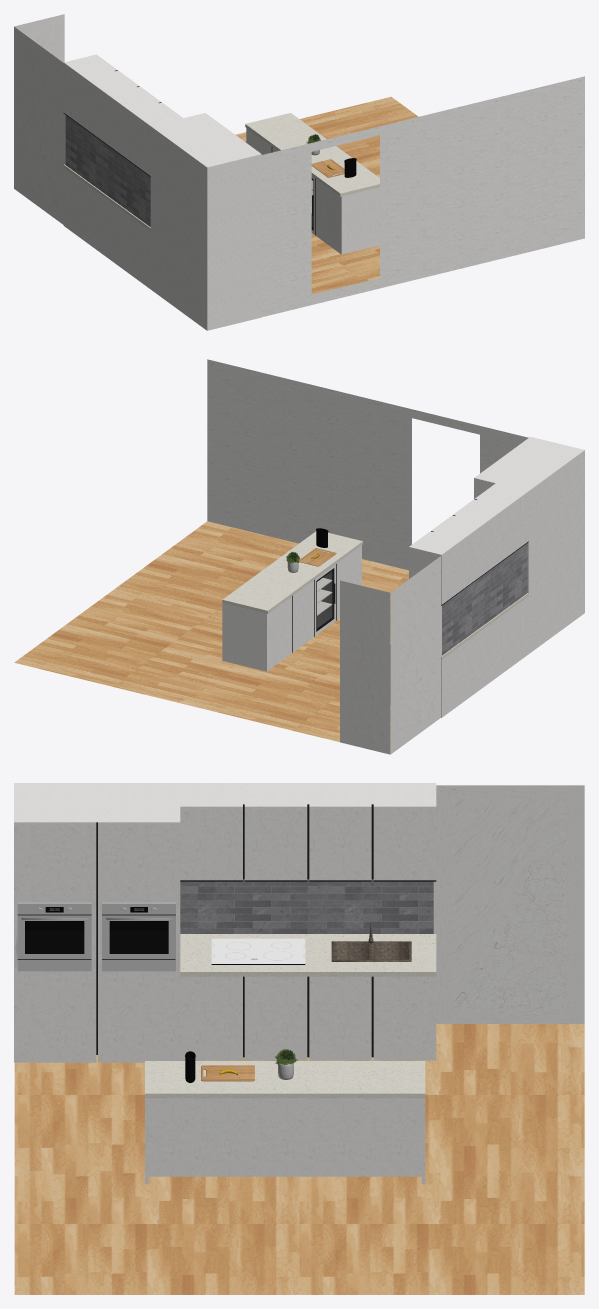
Rendered from ModifiedKitchen_v8.obj.
3 views of the same model, one above another, from view 1: azimuth 30°, elevation 25°; view 2: azimuth 150°, elevation 25°; view 3: azimuth 270°, elevation 25° (orthographic). The views are drawn at different scales.
Parts seen in each view (by area): view 1: WindowWall_Wall, Cupboards_Cupboard, WindowWall.002_Wall, Floor_Floor, Tiles_Tiles, Counters_Counter, WindowWall.001_Wall; view 2: Floor_Floor, WindowWall_Wall, Cupboards_Cupboard, WindowWall.002_Wall, WindowWall.001_Wall, Counters_Counter, Tiles_Tiles, Fridge_FridgeGlass, Trim_CupboardTrim; view 3: Floor_Floor, Cupboards_Cupboard, WindowWall.002_Wall, Counters_Counter, Tiles_Tiles, Ovens_Oven, Ovens_Hob, Hob_Material.001, Trim_CupboardTrim, Sink_Sink, Chopping_Board_Material.005.
Part boxes in pixels (left/top/right/bottom): WindowWall_Wall: left=261, top=76, right=584, bottom=316; Cupboards_Cupboard: left=63, top=54, right=379, bottom=330; WindowWall.002_Wall: left=14, top=27, right=65, bottom=224; Floor_Floor: left=235, top=96, right=418, bottom=294; Tiles_Tiles: left=65, top=115, right=150, bottom=226; Counters_Counter: left=63, top=113, right=379, bottom=230; WindowWall.001_Wall: left=14, top=14, right=64, bottom=62; Floor_Floor: left=14, top=521, right=408, bottom=754; WindowWall_Wall: left=207, top=359, right=528, bottom=570; Cupboards_Cupboard: left=222, top=436, right=584, bottom=717; WindowWall.002_Wall: left=390, top=556, right=441, bottom=754; WindowWall.001_Wall: left=340, top=580, right=390, bottom=754; Counters_Counter: left=222, top=531, right=528, bottom=659; Tiles_Tiles: left=442, top=543, right=527, bottom=655; Fridge_FridgeGlass: left=317, top=571, right=331, bottom=627; Trim_CupboardTrim: left=292, top=499, right=528, bottom=652; Floor_Floor: left=14, top=1024, right=584, bottom=1294; Cupboards_Cupboard: left=14, top=783, right=436, bottom=1183; WindowWall.002_Wall: left=433, top=785, right=584, bottom=1023; Counters_Counter: left=145, top=934, right=436, bottom=1098; Tiles_Tiles: left=180, top=879, right=433, bottom=933; Ovens_Oven: left=17, top=902, right=175, bottom=971; Ovens_Hob: left=17, top=914, right=175, bottom=959; Hob_Material.001: left=211, top=938, right=305, bottom=963; Trim_CupboardTrim: left=96, top=804, right=436, bottom=1057; Sink_Sink: left=331, top=923, right=411, bottom=961; Chopping_Board_Material.005: left=207, top=1065, right=248, bottom=1081.
Bounding box in the file's own units: 13.42 × 5.54 × 11.93.
24 materials, 15 textured.
